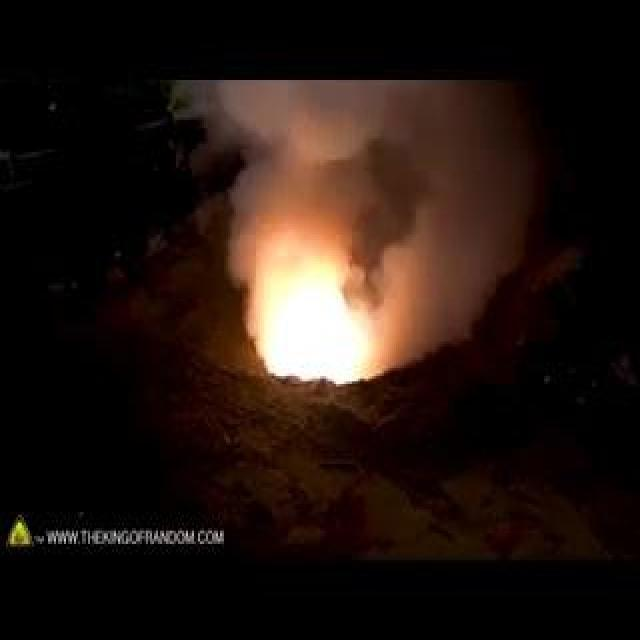Fire: (230, 196, 382, 372)
Smoke: (194, 75, 530, 230), (383, 218, 530, 362)
